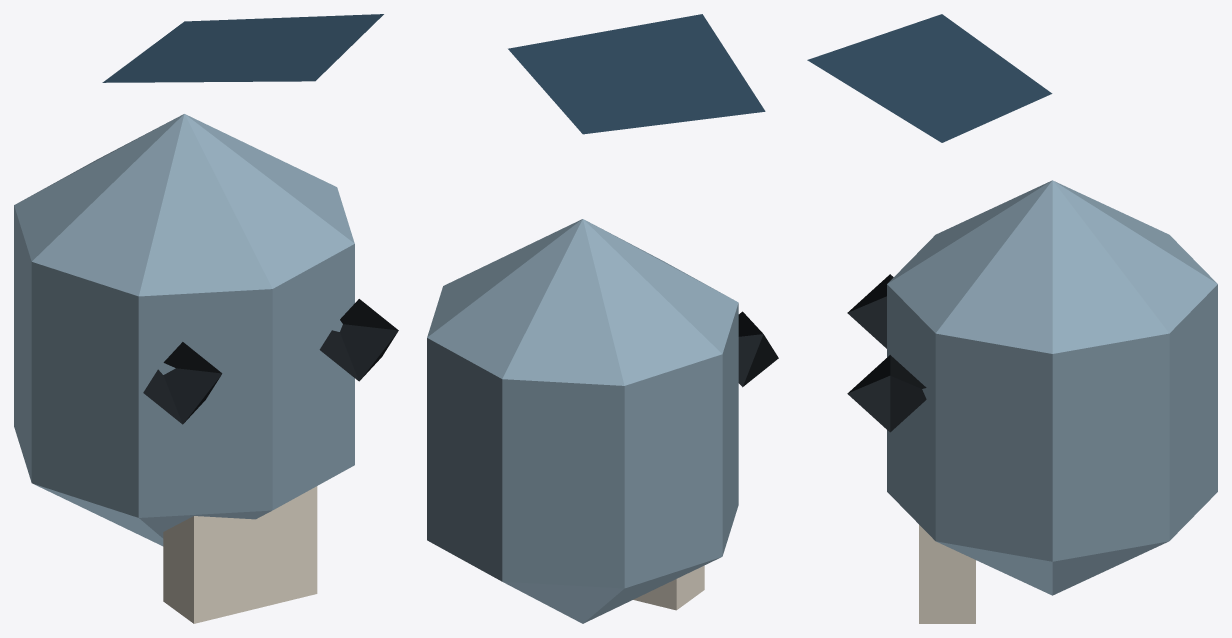
Rendered from fish_tilapia.glb.
3 renders of one model, left to right at view 1: azimuth 30°, elevation 25°; view 2: azimuth 150°, elevation 25°; view 3: azimuth 270°, elevation 25°, orthographic. The views are drawn at different scales.
Visible parts, largest first — view 1: fish_tilapia; view 2: fish_tilapia; view 3: fish_tilapia.
Part boxes in pixels (left/top/right/bottom): fish_tilapia: left=14, top=14, right=398, bottom=623; fish_tilapia: left=427, top=14, right=778, bottom=623; fish_tilapia: left=807, top=14, right=1217, bottom=623.
Size of the model in its own units: 0.5598 by 1 by 0.6953.
